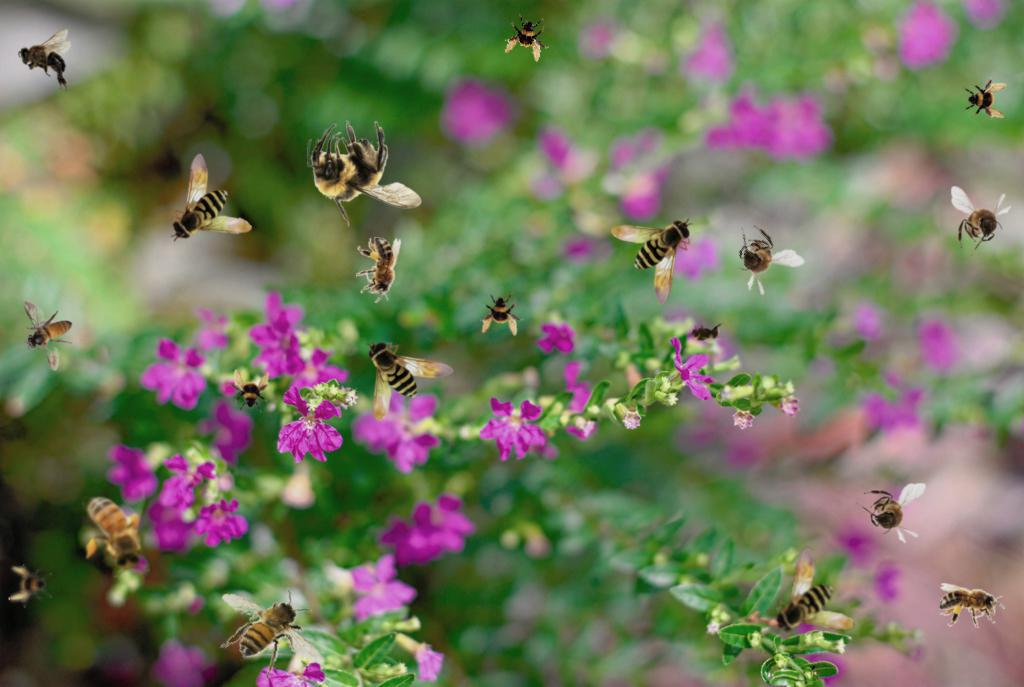Bee: (210, 578, 335, 687), (307, 120, 422, 227), (713, 212, 806, 306), (771, 544, 859, 638), (168, 152, 252, 242), (366, 339, 454, 421), (611, 218, 693, 306), (82, 484, 150, 577), (856, 483, 926, 544), (951, 186, 1012, 256), (23, 300, 73, 371), (18, 29, 71, 91), (939, 583, 1005, 628), (356, 237, 401, 303), (502, 12, 554, 64), (227, 369, 271, 413), (963, 76, 1007, 120), (480, 292, 524, 336), (8, 564, 52, 608), (685, 322, 725, 344)
